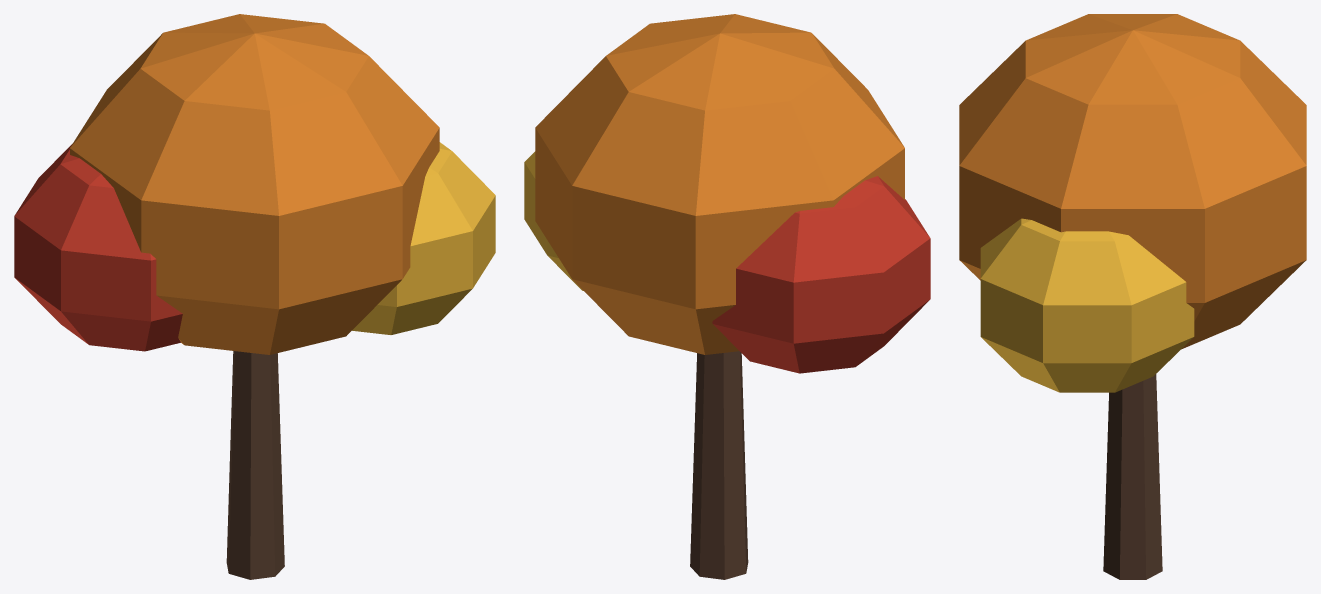
The model's file is tree_autumn_orange.glb.
3 renders of one model, left to right at view 1: azimuth 30°, elevation 25°; view 2: azimuth 150°, elevation 25°; view 3: azimuth 270°, elevation 25°, orthographic.
Visible parts, largest first — view 1: tree_autumn_orange; view 2: tree_autumn_orange; view 3: tree_autumn_orange.
Boxes of the visible parts, x1,y1,x2,y2 form: tree_autumn_orange: [14, 14, 495, 579]; tree_autumn_orange: [524, 14, 930, 579]; tree_autumn_orange: [959, 14, 1306, 579].
Bounding box in the file's own units: 3.05 × 3.9 × 2.28.
